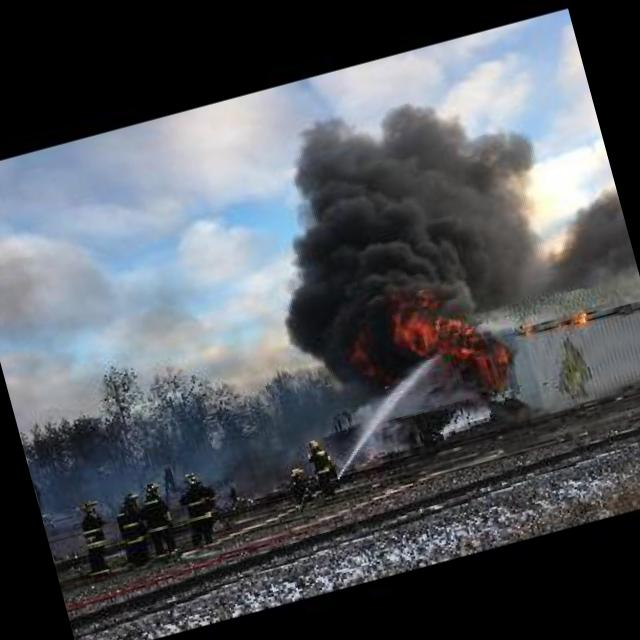fire: (331, 237, 545, 433)
smoke: (238, 98, 571, 382)
